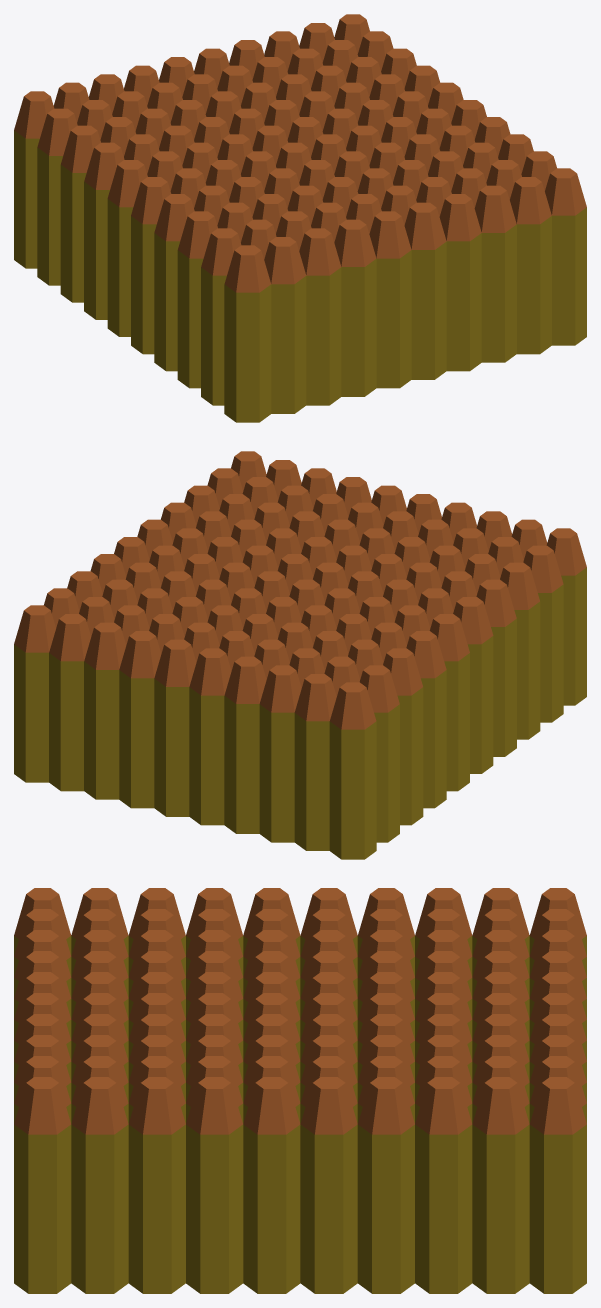
Rendered from pistol_bullet_stack.fbx.
3 views of the same model, one above another, from view 1: azimuth 30°, elevation 25°; view 2: azimuth 150°, elevation 25°; view 3: azimuth 270°, elevation 25° (orthographic). The views are drawn at different scales.
Visible parts, largest first — view 1: Pistol_Bullet; view 2: Pistol_Bullet; view 3: Pistol_Bullet.
Boxes of the visible parts, x1,y1,x2,y2 form: Pistol_Bullet: (14,14,586,422); Pistol_Bullet: (14,451,586,859); Pistol_Bullet: (14,888,586,1293).
Size of the model in its own units: 7.86 by 3.5 by 9.07.
